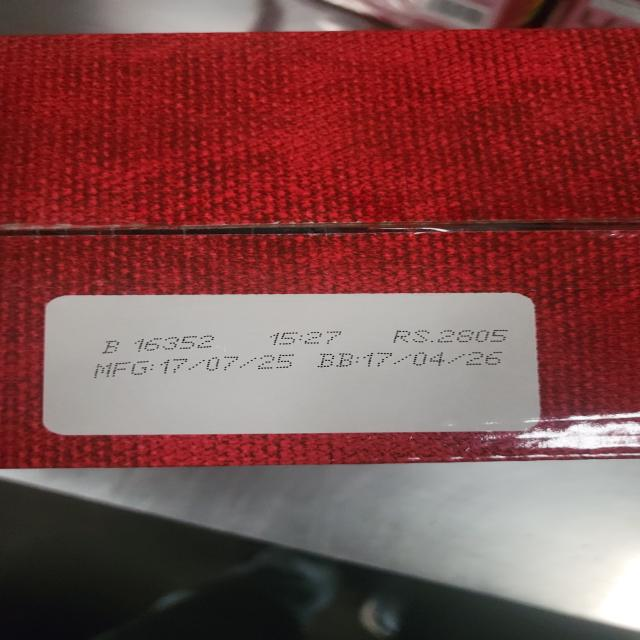BB: (316, 351, 513, 371)
Batch: (100, 336, 230, 356)
MFG: (96, 359, 294, 380)
RS: (388, 324, 514, 348)
TimeStamp: (267, 330, 356, 350)
